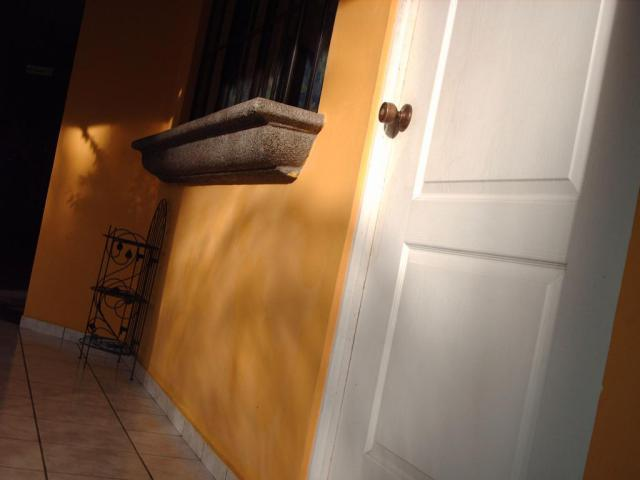Door-handle: (378, 100, 412, 132)
